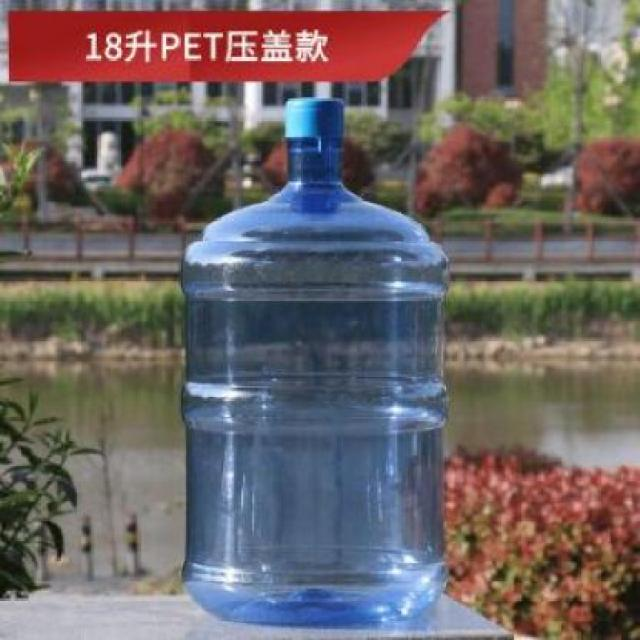coolerbottle: (172, 94, 458, 635)
